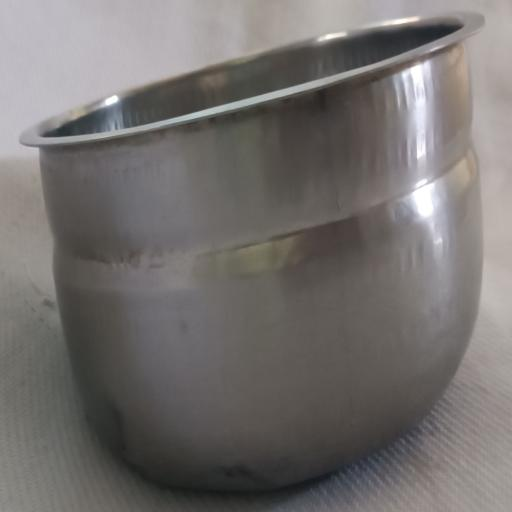vessel: (21, 13, 483, 489)
